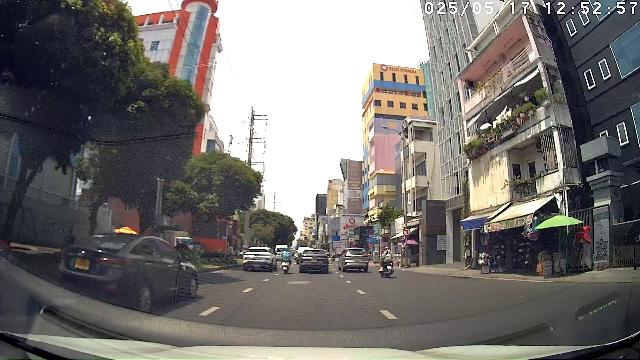123a-cam-re-trai: (403, 228, 411, 236)
